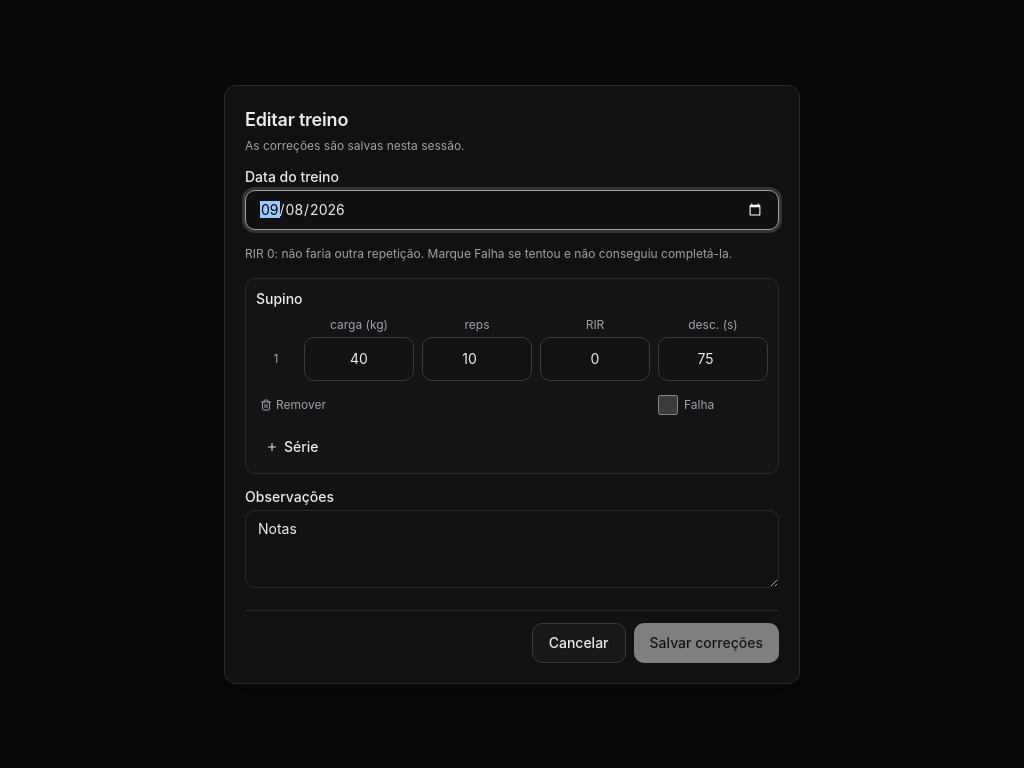
it: SessionEditForm › não grava uma sessão sem séries
Click the button with aria-label "Remover série 1 de Supino" at (293, 404), box x1=256 y1=382 x2=330 y2=426
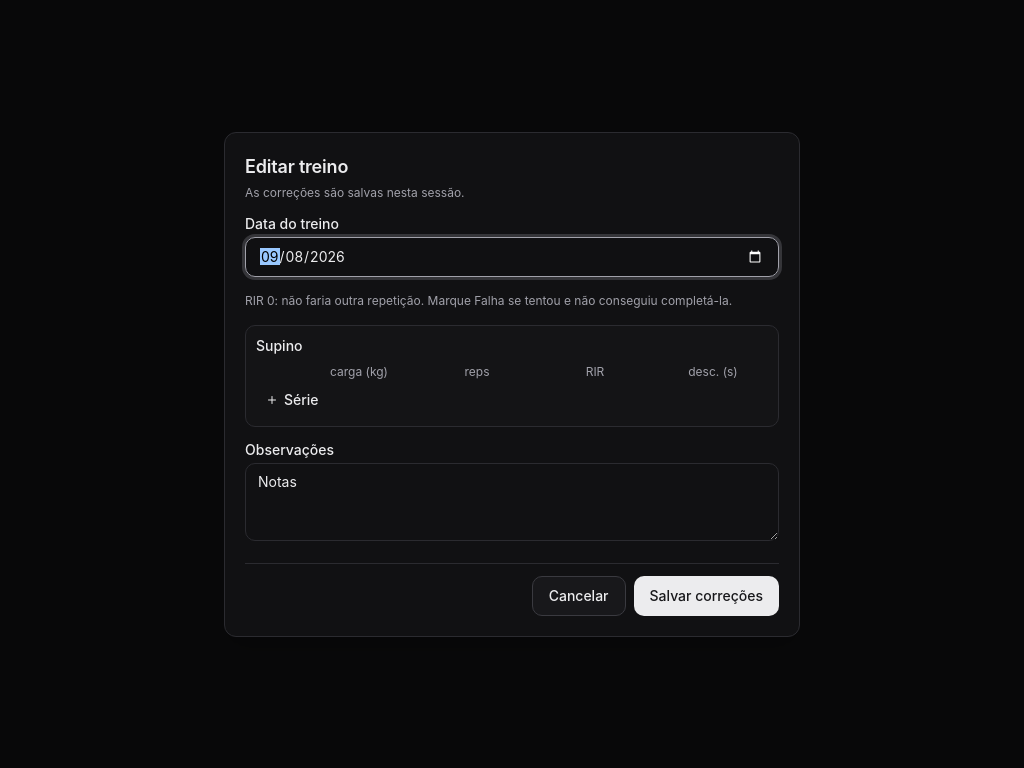
Click the button "Salvar correções" at (706, 596), box x1=634 y1=576 x2=779 y2=616
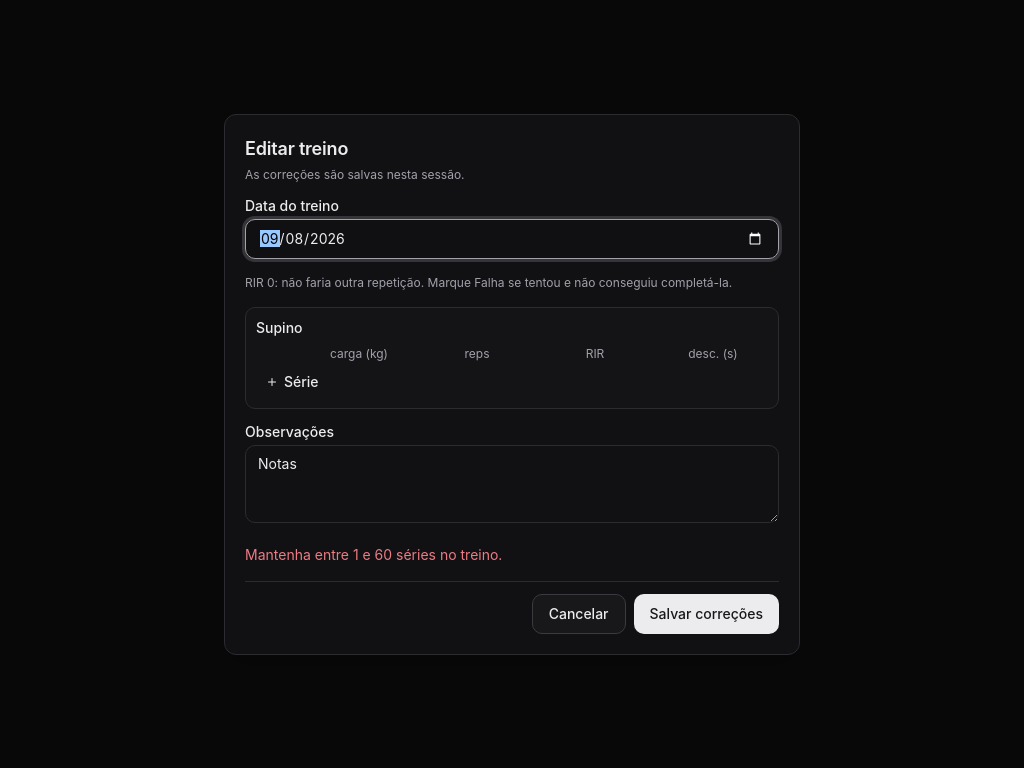
Now the message shows "entre 1 e 60 séries", box x1=245 y1=546 x2=502 y2=562
